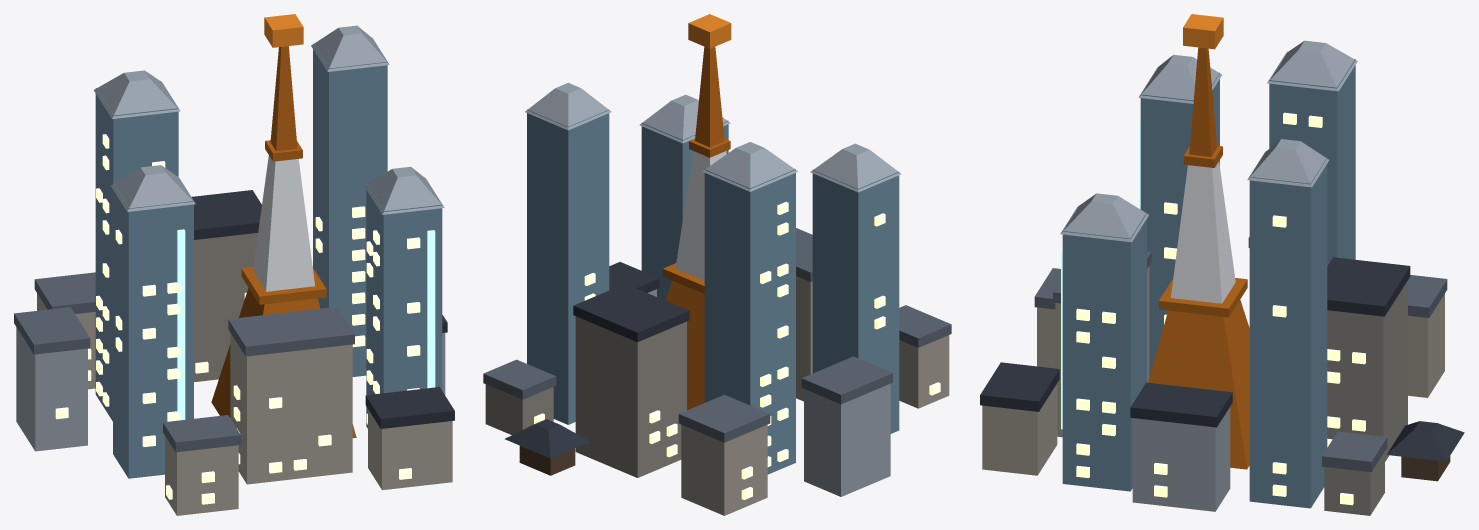
The model's file is overworld-settlement-east-asian-city.glb.
The picture shows the model from 3 angles, left to right: view 1: azimuth 30°, elevation 25°; view 2: azimuth 150°, elevation 25°; view 3: azimuth 270°, elevation 25°; orthographic projection. The views are drawn at different scales.
Visible parts, largest first — view 1: settlement; view 2: settlement; view 3: settlement.
Part boxes in pixels (x1,y1,x2,y2): settlement: (14, 14, 454, 515); settlement: (483, 14, 951, 515); settlement: (980, 14, 1464, 515).
Bounding box in the file's own units: 0.4766 × 0.481 × 0.5092.
